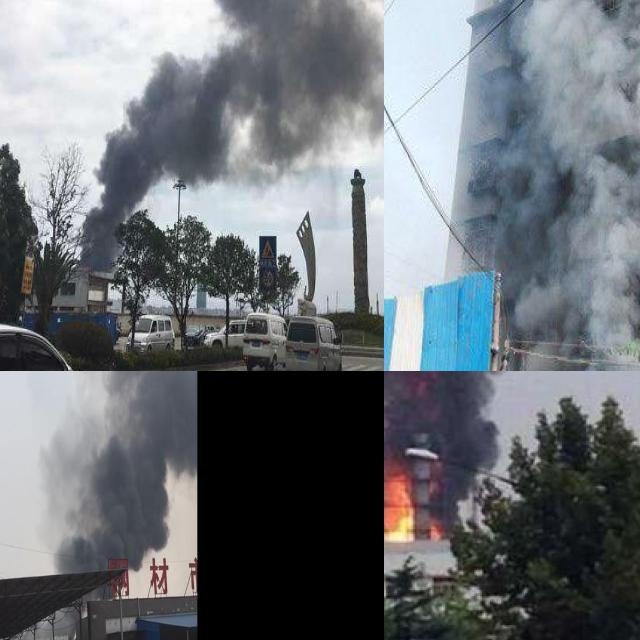fire: (384, 460, 424, 539)
smoke: (79, 0, 384, 264), (488, 0, 640, 365), (51, 371, 196, 572)
